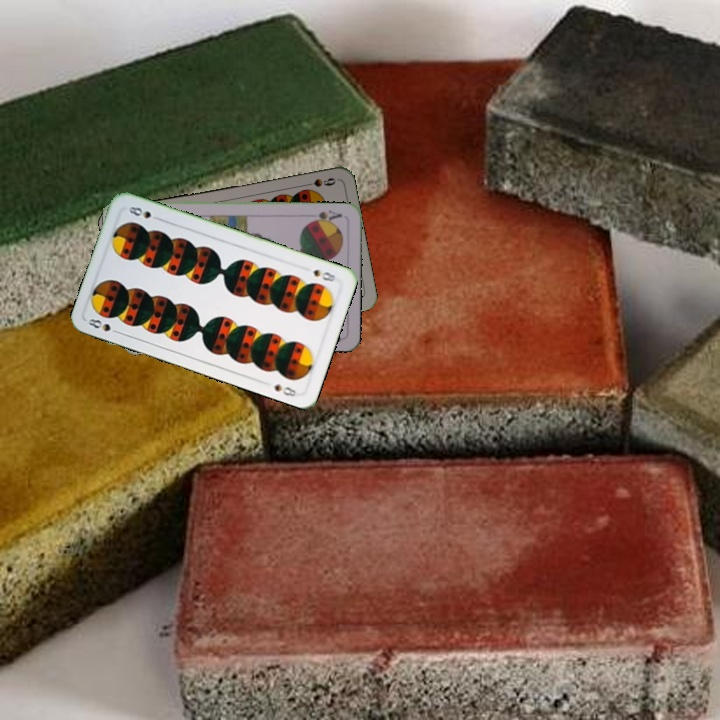S8: (84, 314, 123, 336), (309, 265, 338, 284)
S9: (298, 174, 338, 190)
SA: (305, 206, 344, 225)
